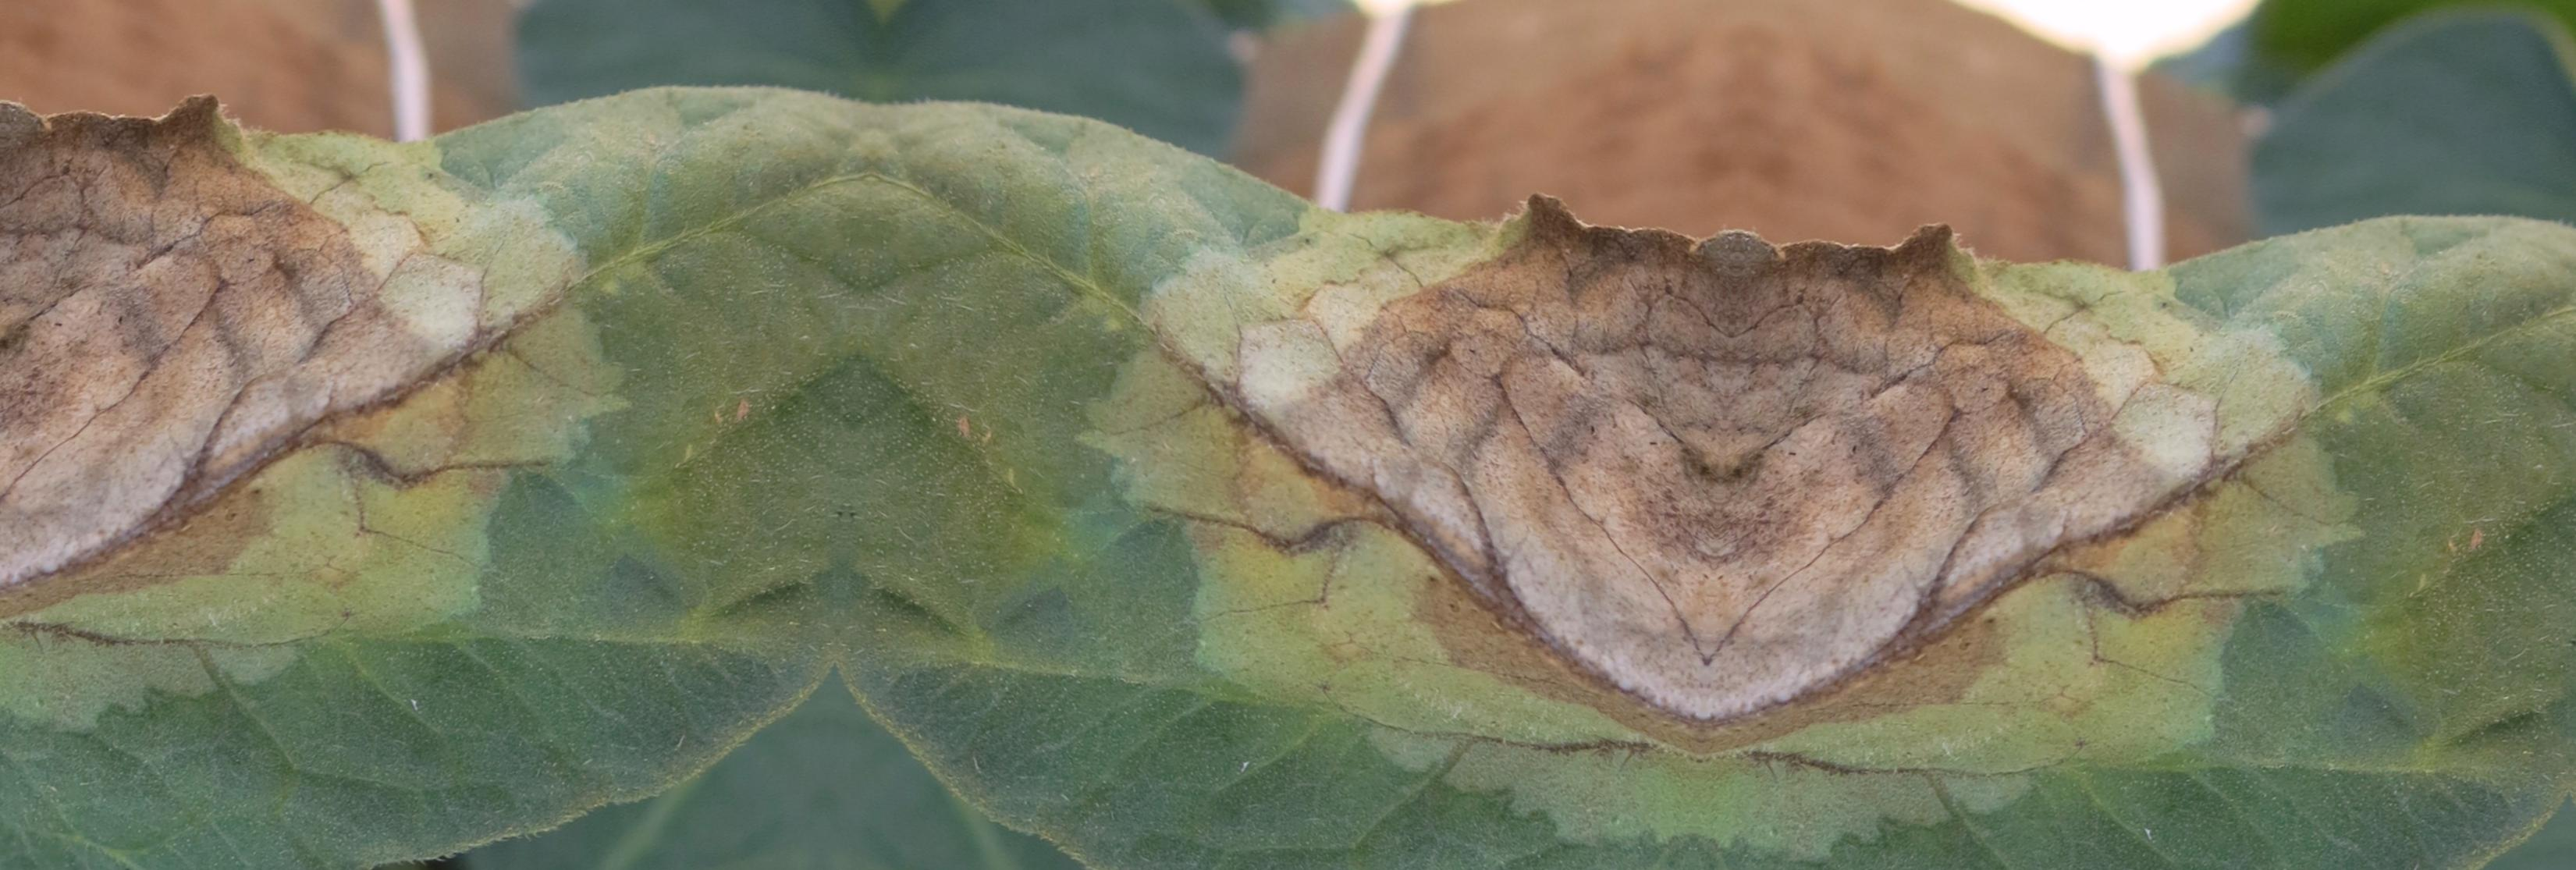Tomato leaf late blight: (782, 0, 1761, 870)
